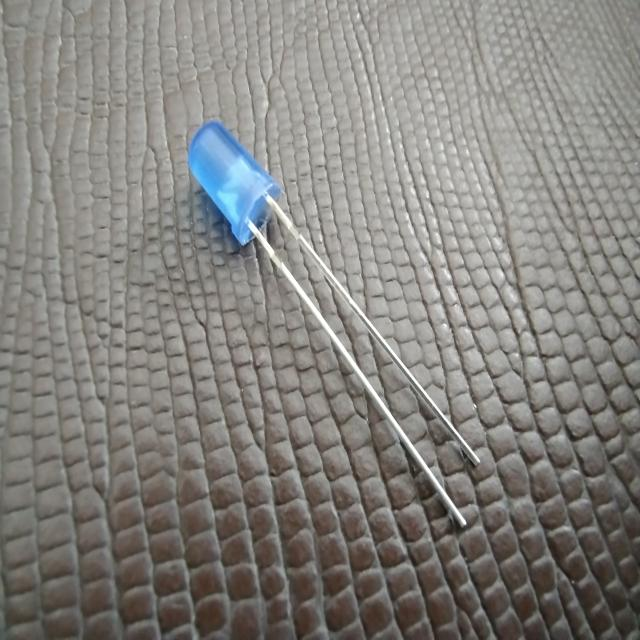blue_led: (187, 118, 281, 247)
